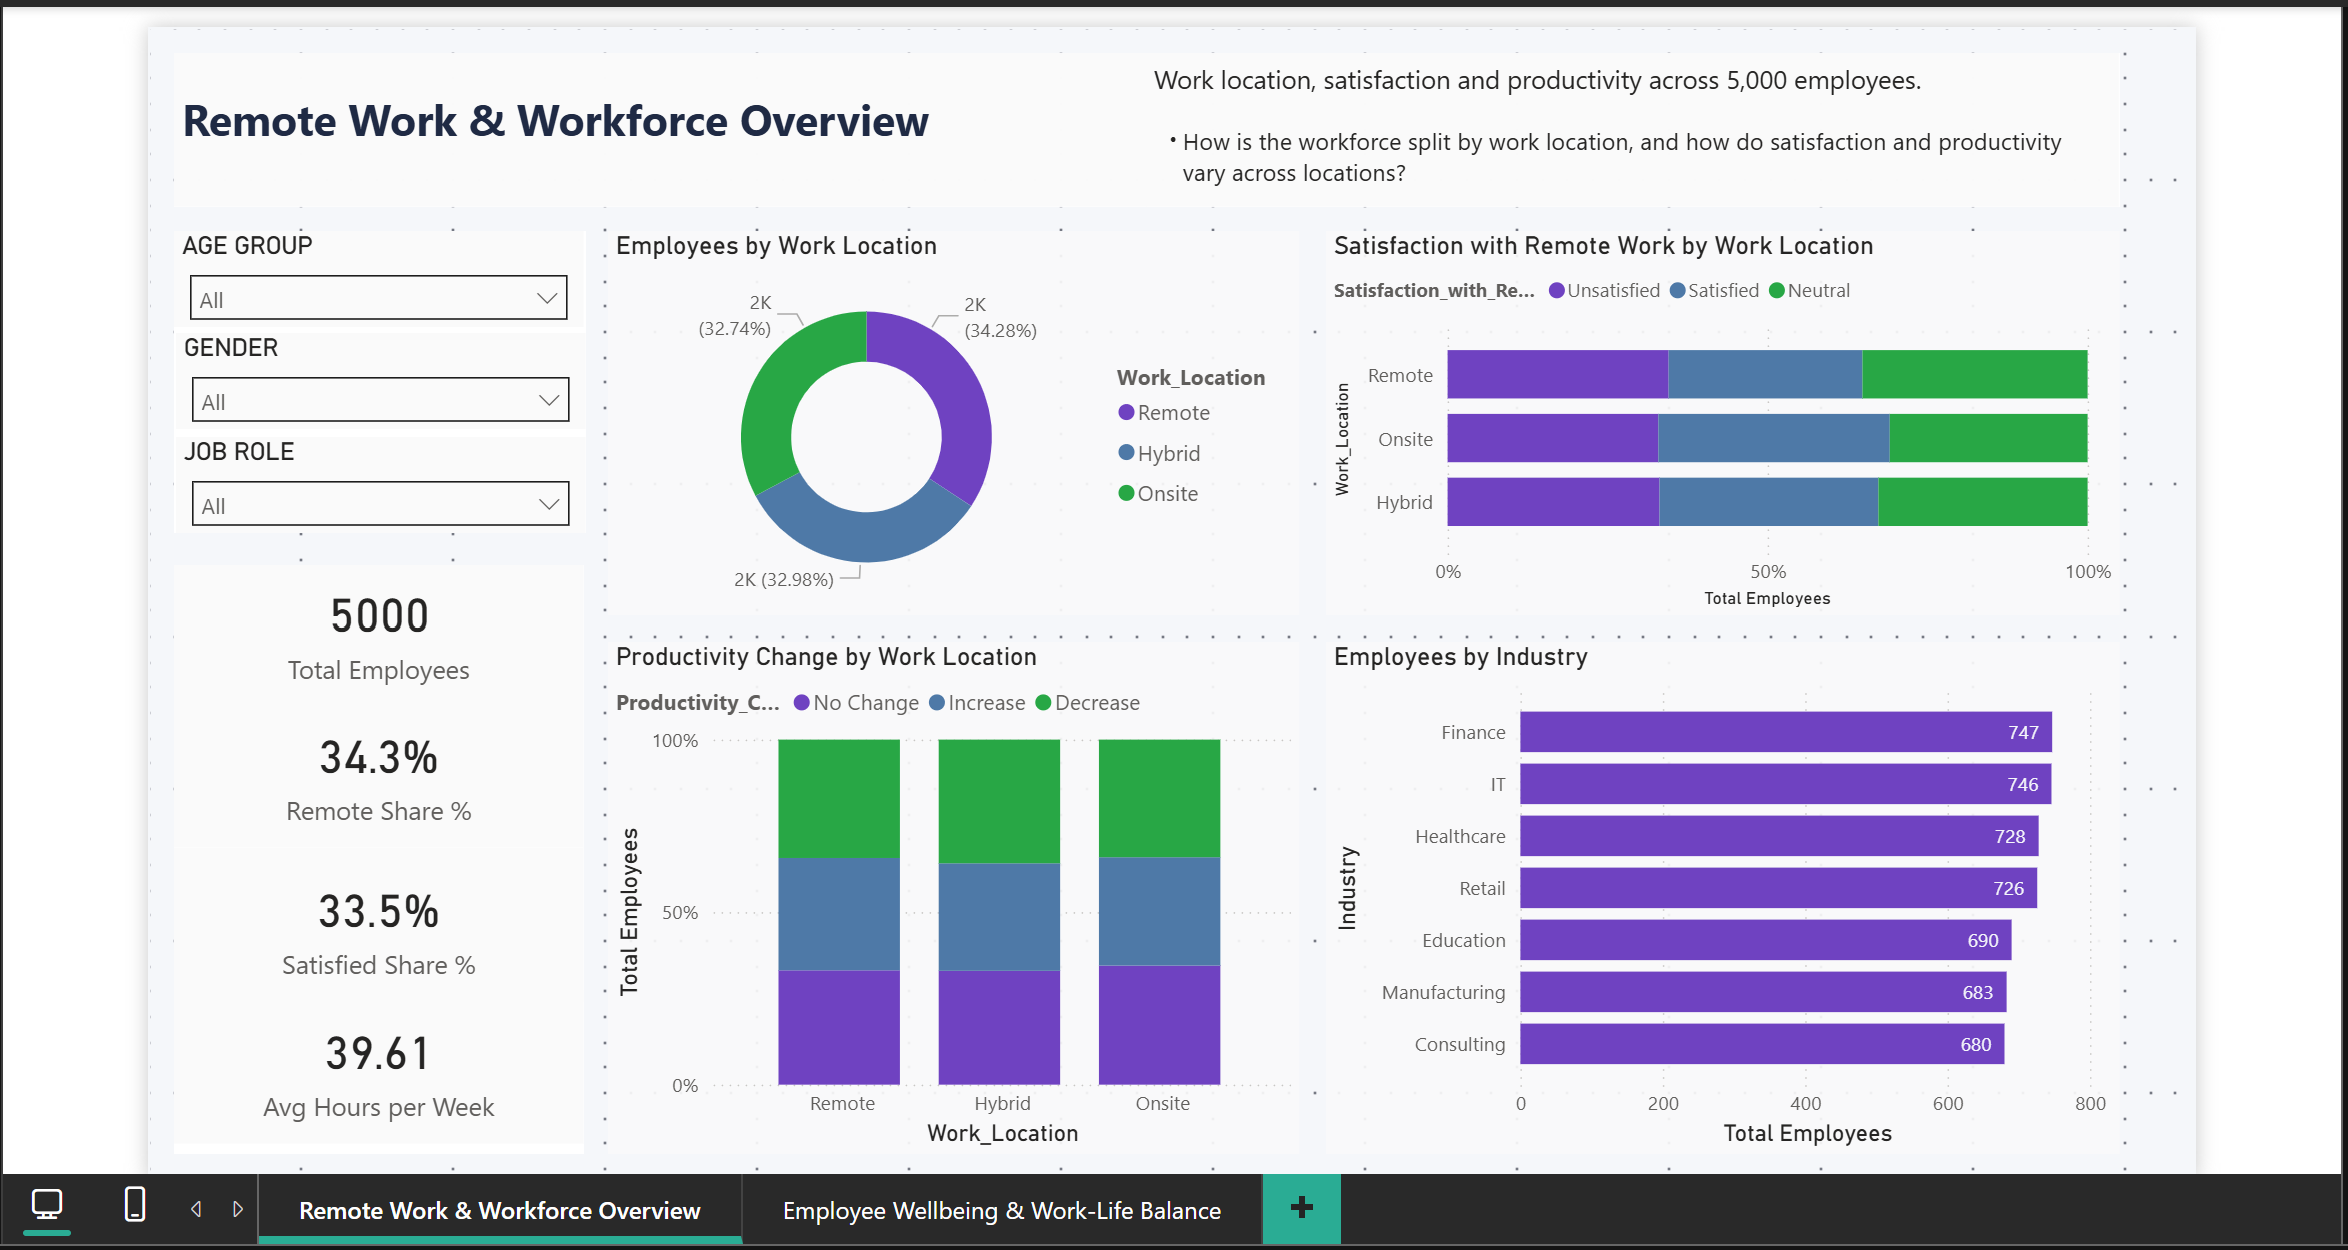

The dashboard page shown, as its layout file describes it:
{"tool":"powerbi","page":{"name":"Remote Work & Workforce Overview","canvas":[1280,720],"ordinal":0},"visuals":[{"type":"textbox","box":[16,16,608,96],"z":0,"group":"g1"},{"type":"donutChart","title":"Employees by Work Location","fields":{"Category":["remote_work_cleaned.Work_Location"],"Y":["meaures.Total Employees"]},"box":[288,128,432,240],"z":0},{"type":"hundredPercentStackedBarChart","title":"Satisfaction with Remote Work by Work Location","fields":{"Series":["remote_work_cleaned.Satisfaction_with_Remote_Work"],"Category":["remote_work_cleaned.Work_Location"],"Y":["meaures.Total Employees"]},"box":[736,128,496,240],"z":1000},{"type":"card","fields":{"Values":["meaures.Total Employees"]},"box":[16,336,256,80],"z":1000,"group":"g2"},{"type":"hundredPercentStackedColumnChart","title":"Productivity Change by Work Location","fields":{"Category":["remote_work_cleaned.Work_Location"],"Series":["remote_work_cleaned.Productivity_Change"],"Y":["meaures.Total Employees"]},"box":[288,384,432,320],"z":2000},{"type":"card","fields":{"Values":["meaures.Avg Hours per Week"]},"box":[16,601.5,256,96],"z":2000,"group":"g2"},{"type":"barChart","title":"Employees by Industry","fields":{"Category":["remote_work_cleaned.Industry"],"Y":["meaures.Total Employees"]},"box":[736,384,496,320],"z":3000},{"type":"card","fields":{"Values":["meaures.Satisfied Share %"]},"box":[16,512,256,96],"z":3000,"group":"g2"},{"type":"group","id":"g1","title":"Group 1","box":[16,16,1216,96],"z":4000},{"type":"card","fields":{"Values":["meaures.Remote Share %"]},"box":[16,416,256,96],"z":4000,"group":"g2"},{"type":"slicer","title":"GENDER","fields":{"Values":["remote_work_cleaned.Gender"]},"box":[17.7,192.1,256,60],"z":5000,"group":"g3"},{"type":"group","id":"g2","title":"Group 2","box":[16,336,256,368],"z":5000},{"type":"group","id":"g3","title":"Group 3","box":[16,128,257.7,188.1],"z":6000},{"type":"slicer","title":"AGE GROUP","fields":{"Values":["remote_work_cleaned.Age_Group"]},"box":[16,128,256,60],"z":6000,"group":"g3"},{"type":"slicer","title":"JOB ROLE","fields":{"Values":["remote_work_cleaned.Job_Role"]},"box":[17.7,256.1,256,60],"z":7000,"group":"g3"},{"type":"textbox","box":[624,16,608,96],"z":9500,"group":"g1"}]}

Visuals, with their boxes on the page's 1280x720 design canvas (x1, y1, x2, y2). These are canvas units, not pixel positions in the 2348x1250 screenshot, which may show the page scaled, cropped or inside an application window:
textbox: locate(16, 16, 624, 112)
"Employees by Work Location" donutChart: locate(288, 128, 720, 368)
"Satisfaction with Remote Work by Work Location" hundredPercentStackedBarChart: locate(736, 128, 1232, 368)
card - meaures.Total Employees: locate(16, 336, 272, 416)
"Productivity Change by Work Location" hundredPercentStackedColumnChart: locate(288, 384, 720, 704)
card - meaures.Avg Hours per Week: locate(16, 602, 272, 698)
"Employees by Industry" barChart: locate(736, 384, 1232, 704)
card - meaures.Satisfied Share %: locate(16, 512, 272, 608)
"Group 1" group: locate(16, 16, 1232, 112)
card - meaures.Remote Share %: locate(16, 416, 272, 512)
"GENDER" slicer: locate(18, 192, 274, 252)
"Group 2" group: locate(16, 336, 272, 704)
"Group 3" group: locate(16, 128, 274, 316)
"AGE GROUP" slicer: locate(16, 128, 272, 188)
"JOB ROLE" slicer: locate(18, 256, 274, 316)
textbox: locate(624, 16, 1232, 112)
